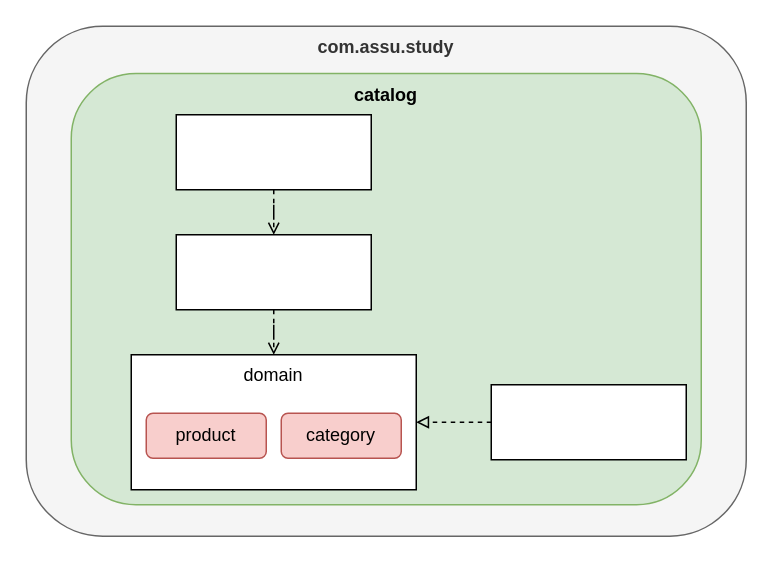
This 773x563 diagram has some shape labels left out. Here are the shapes that lost their labels. From the top down, the centre of each, then its label:
At point 273,151: "ui (표현 영역) (Controller..)".
At point 273,271: "application (응용 영역) (Service..)".
At point 588,421: "infrastructure".
